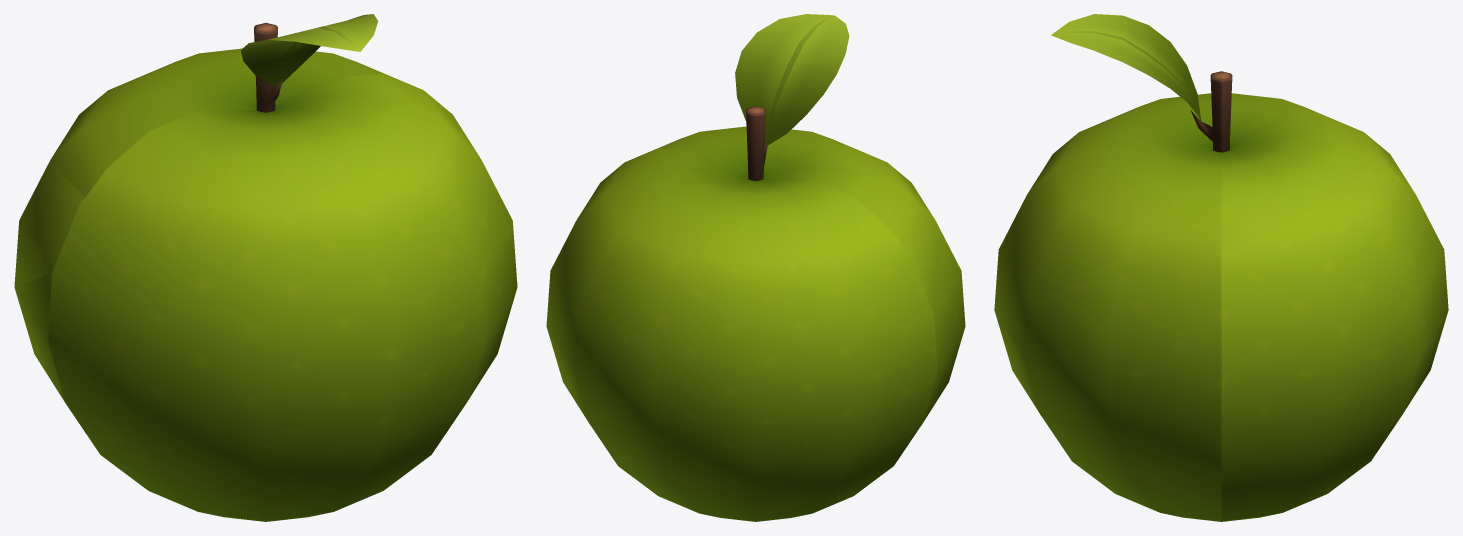
File: Apple Green.fbx
3 views of the same model, side by side, from view 1: azimuth 30°, elevation 25°; view 2: azimuth 150°, elevation 25°; view 3: azimuth 270°, elevation 25° (orthographic). The views are drawn at different scales.
Parts seen in each view (by area): view 1: Apple_G_Half_Back, Apple_G_Half_Front, Apple_G_Whole; view 2: Apple_G_Half_Front, Apple_G_Half_Back, Apple_G_Whole; view 3: Apple_G_Half_Back, Apple_G_Half_Front, Apple_G_Whole.
Boxes of the visible parts, x1,y1,x2,y2 form: Apple_G_Half_Back: (48,14,517,521); Apple_G_Half_Front: (14,23,393,287); Apple_G_Whole: (14,24,476,449); Apple_G_Half_Front: (546,108,933,521); Apple_G_Half_Back: (629,14,965,422); Apple_G_Whole: (604,109,937,513); Apple_G_Half_Back: (994,14,1221,521); Apple_G_Half_Front: (1221,73,1448,521); Apple_G_Whole: (1166,71,1334,487).
Size of the model in its own units: 1.66 by 1.88 by 1.66.
